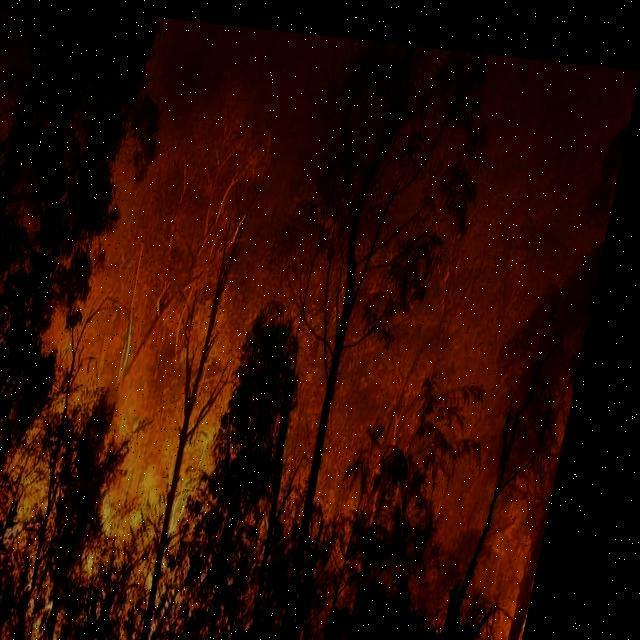Fire: (0, 277, 270, 639)
